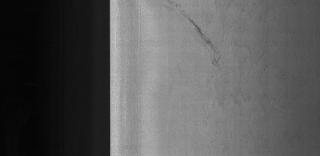silk spot: (232, 13, 306, 146)
water spot: (165, 0, 227, 72)
